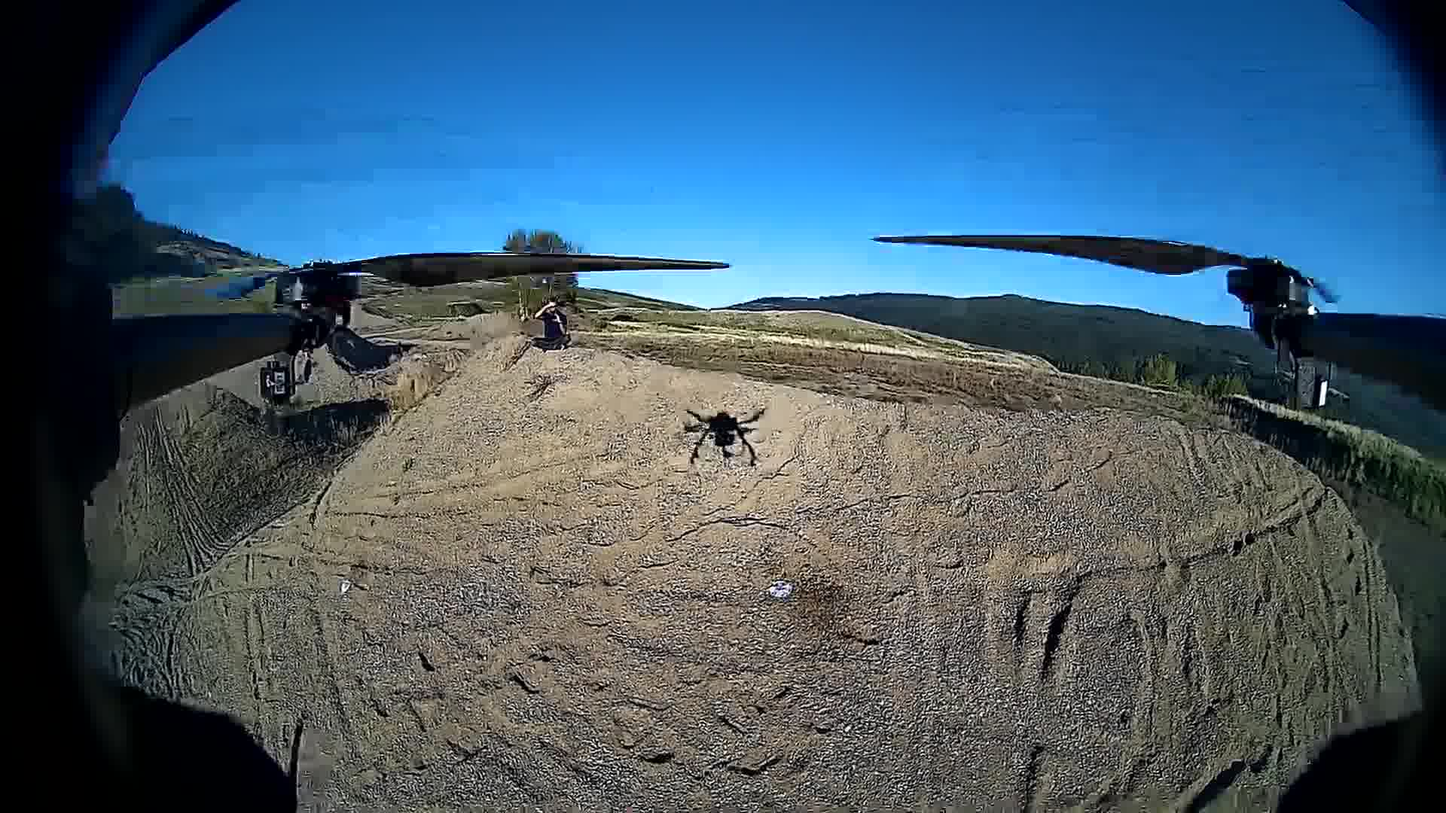Target: (767, 579, 791, 598)
